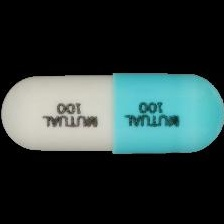53489-118: (0, 0, 224, 224)
